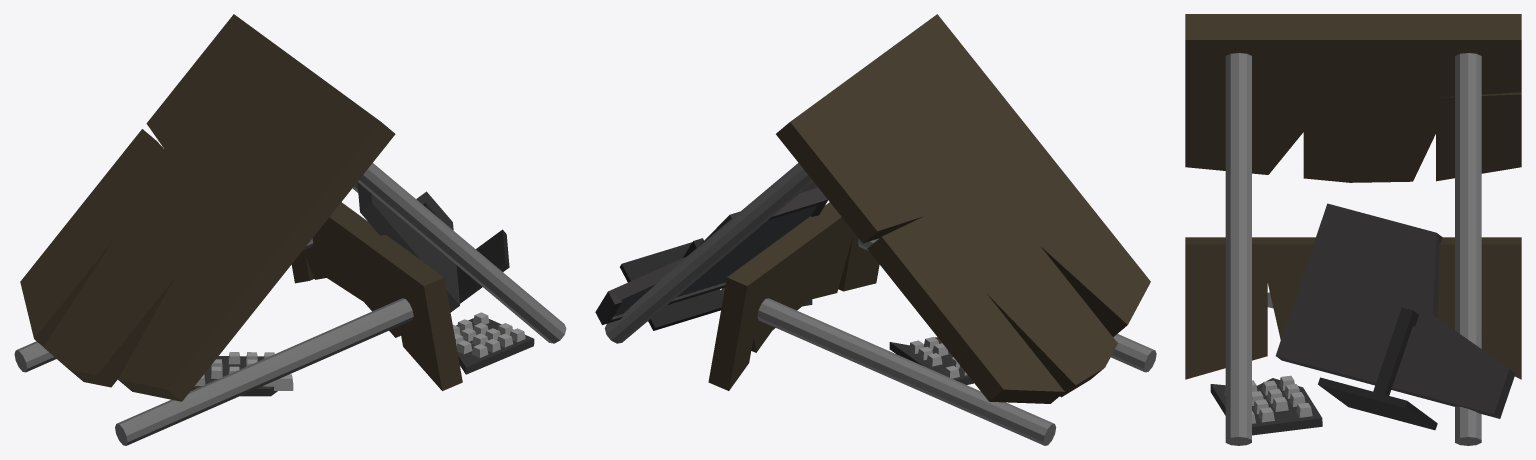
File: broken table2.fbx
The picture shows the model from 3 angles, left to right: view 1: azimuth 30°, elevation 25°; view 2: azimuth 150°, elevation 25°; view 3: azimuth 270°, elevation 25°; orthographic projection. The views are drawn at different scales.
Parts seen in each view (by area): view 1: polySurface13, polySurface16, polySurface15, polySurface12, polySurface33, polySurface34, polySurface9, polySurface14, polySurface10; view 2: polySurface13, polySurface16, polySurface14, polySurface11, polySurface33, polySurface34, polySurface15, polySurface10; view 3: polySurface13, polySurface33, polySurface16, polySurface12, polySurface11, polySurface34, polySurface9.
Boxes of the visible parts, box(x1,y1,x2,y2) form: polySurface13: box(20, 14, 395, 401); polySurface16: box(291, 202, 462, 390); polySurface15: box(115, 298, 413, 445); polySurface12: box(358, 163, 566, 343); polySurface33: box(357, 182, 459, 312); polySurface34: box(423, 203, 509, 303); polySurface9: box(456, 318, 534, 374); polySurface14: box(14, 238, 313, 372); polySurface10: box(191, 356, 277, 396); polySurface13: box(776, 14, 1150, 403); polySurface16: box(708, 202, 879, 390); polySurface14: box(757, 298, 1056, 445); polySurface11: box(604, 163, 813, 343); polySurface33: box(595, 187, 827, 324); polySurface34: box(620, 238, 723, 330); polySurface15: box(858, 238, 1156, 372); polySurface10: box(889, 337, 973, 384); polySurface13: box(1185, 14, 1521, 182); polySurface33: box(1275, 203, 1515, 418); polySurface16: box(1185, 237, 1521, 379); polySurface12: box(1225, 53, 1251, 445); polySurface11: box(1455, 53, 1481, 445); polySurface34: box(1318, 307, 1437, 430); polySurface9: box(1210, 378, 1322, 435).
Bounding box in the file's own units: 0.9863 × 0.5824 × 0.5454.
